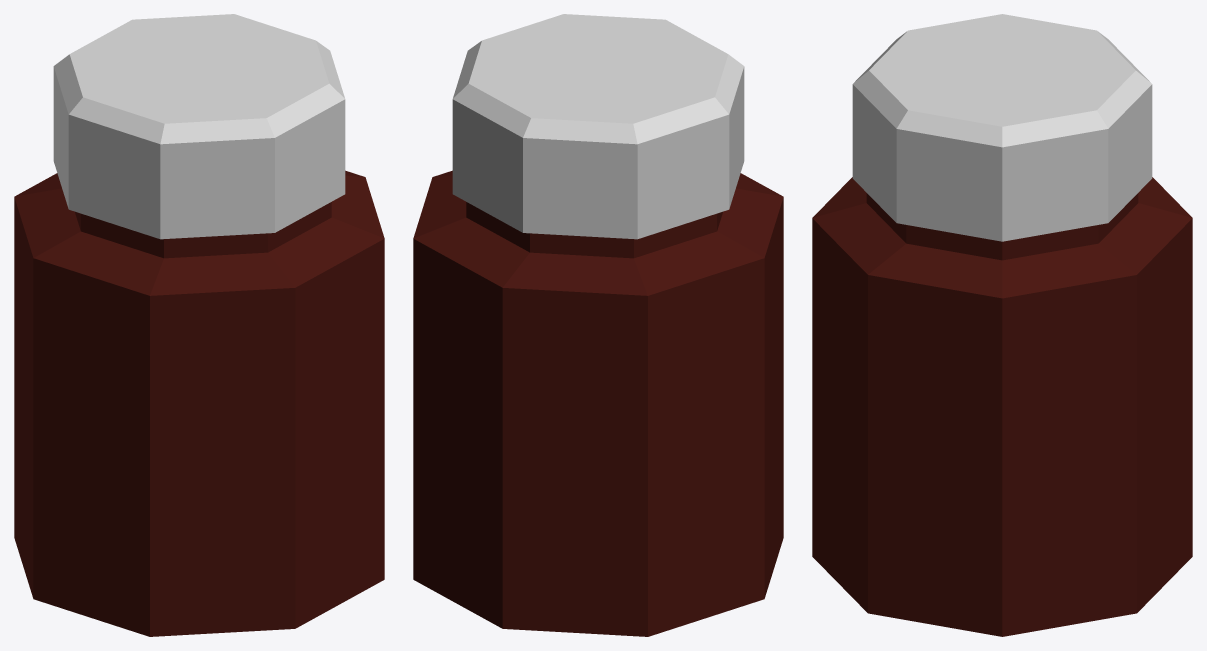
The model's file is Drugs_Jar_mat.fbx.
3 views of the same model, side by side, from view 1: azimuth 30°, elevation 25°; view 2: azimuth 150°, elevation 25°; view 3: azimuth 270°, elevation 25° (orthographic).
Parts seen in each view (by area): view 1: Drugs_Jar_mat; view 2: Drugs_Jar_mat; view 3: Drugs_Jar_mat.
Boxes of the visible parts, x1=… form: Drugs_Jar_mat: x1=14, y1=14, x2=384, y2=636; Drugs_Jar_mat: x1=413, y1=14, x2=783, y2=636; Drugs_Jar_mat: x1=812, y1=14, x2=1192, y2=636.
Size of the model in its own units: 4.46 by 6.28 by 4.46.
